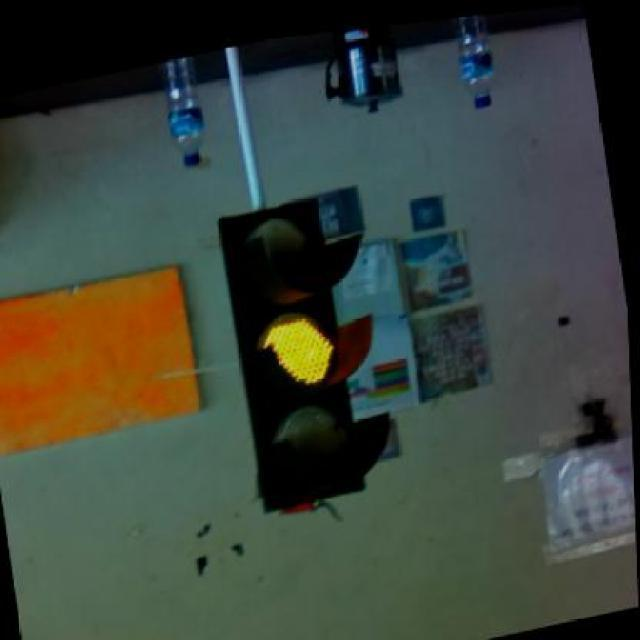yellow_light: (217, 184, 387, 509)
